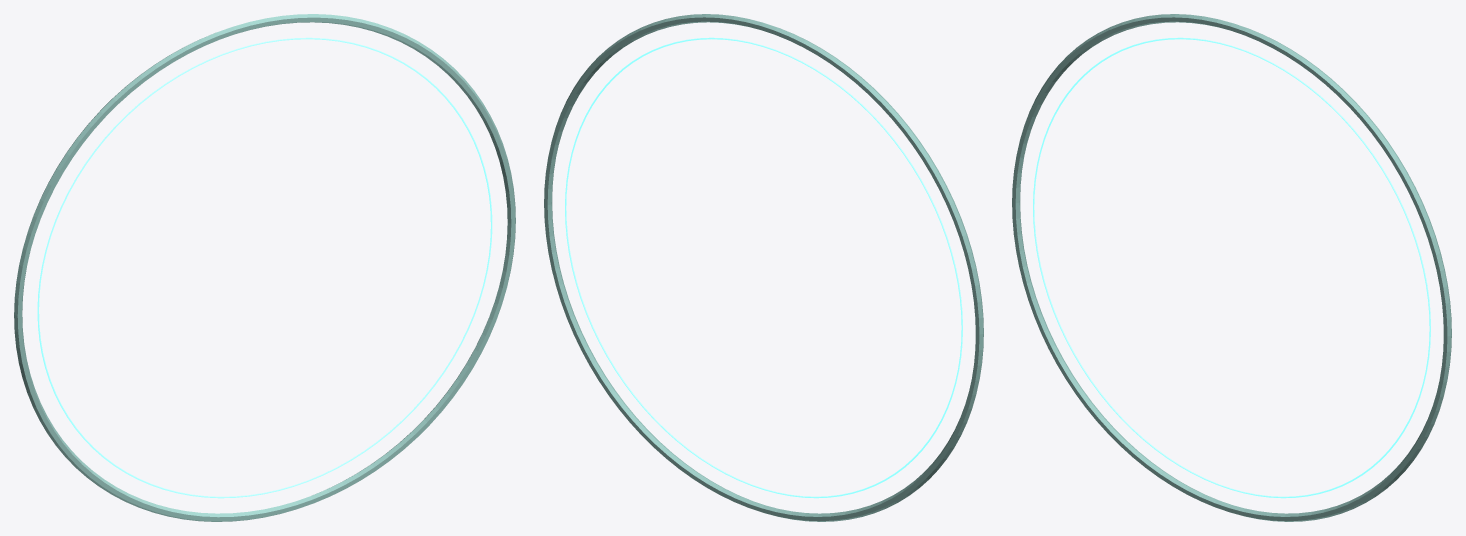
Rendered from distant-ring.glb.
3 views of the same model, side by side, from view 1: azimuth 30°, elevation 25°; view 2: azimuth 150°, elevation 25°; view 3: azimuth 330°, elevation 25° (orthographic).
Parts seen in each view (by area): view 1: LMW_Distant_ring, LMW_Distant_ring_inner; view 2: LMW_Distant_ring, LMW_Distant_ring_inner; view 3: LMW_Distant_ring, LMW_Distant_ring_inner.
Part boxes in pixels (left/top/right/bottom): LMW_Distant_ring: left=14, top=14, right=515, bottom=521; LMW_Distant_ring_inner: left=37, top=37, right=492, bottom=498; LMW_Distant_ring: left=544, top=14, right=983, bottom=521; LMW_Distant_ring_inner: left=565, top=37, right=962, bottom=498; LMW_Distant_ring: left=1012, top=14, right=1451, bottom=521; LMW_Distant_ring_inner: left=1033, top=37, right=1430, bottom=498.
Size of the model in its own units: 32.38 by 32.54 by 3.69.
